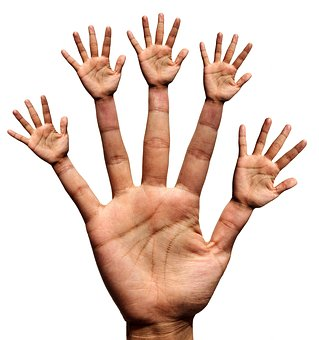palm: (96, 196, 223, 301), (236, 155, 274, 205), (27, 127, 72, 164), (79, 58, 118, 98), (142, 47, 177, 91), (207, 62, 237, 104)
